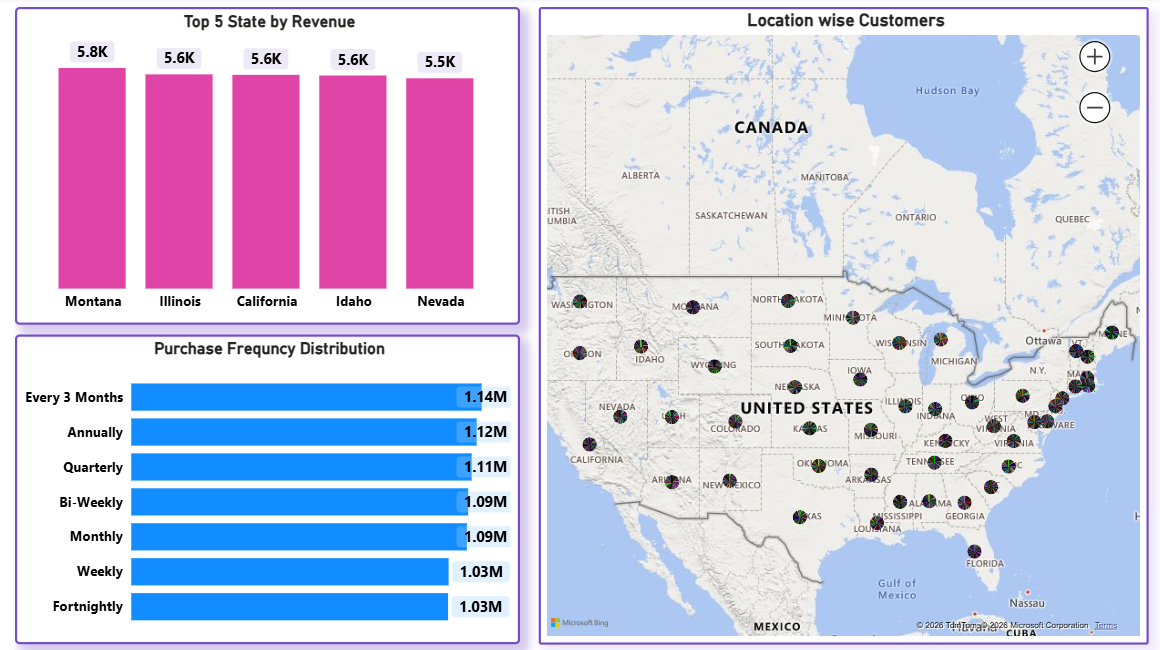

The page's visual inventory and layout, read from the dashboard file:
{"tool":"powerbi","page":{"name":"Customer Behavior & Preferences","canvas":[1280,720],"ordinal":1},"visuals":[{"type":"map","title":"Location wise Customers","fields":{"Category":["public customer.location"],"Series":["public customer.customer_id"]},"box":[591.4,11,669.6,699.8],"z":0},{"type":"clusteredBarChart","title":"Purchase Frequncy Distribution","fields":{"Category":["public customer.frequency_of_purchases"],"Y":["Sum(public customer.customer_id)"]},"box":[16.5,370.5,554.4,340.3],"z":1000},{"type":"clusteredColumnChart","title":"Top 5 State by Revenue","fields":{"Category":["public customer.location"],"Y":["public customer.total_revenue"]},"box":[16.5,11,554.4,348.5],"z":2000}]}

Visuals, with their boxes in screenshot pixels (x1, y1, x2, y2), scaled from the page's 1280x720 canvas onto the 1160x650 screenshot:
"Location wise Customers" map: box(536, 10, 1143, 642)
"Purchase Frequncy Distribution" clusteredBarChart: box(15, 334, 517, 642)
"Top 5 State by Revenue" clusteredColumnChart: box(15, 10, 517, 325)
